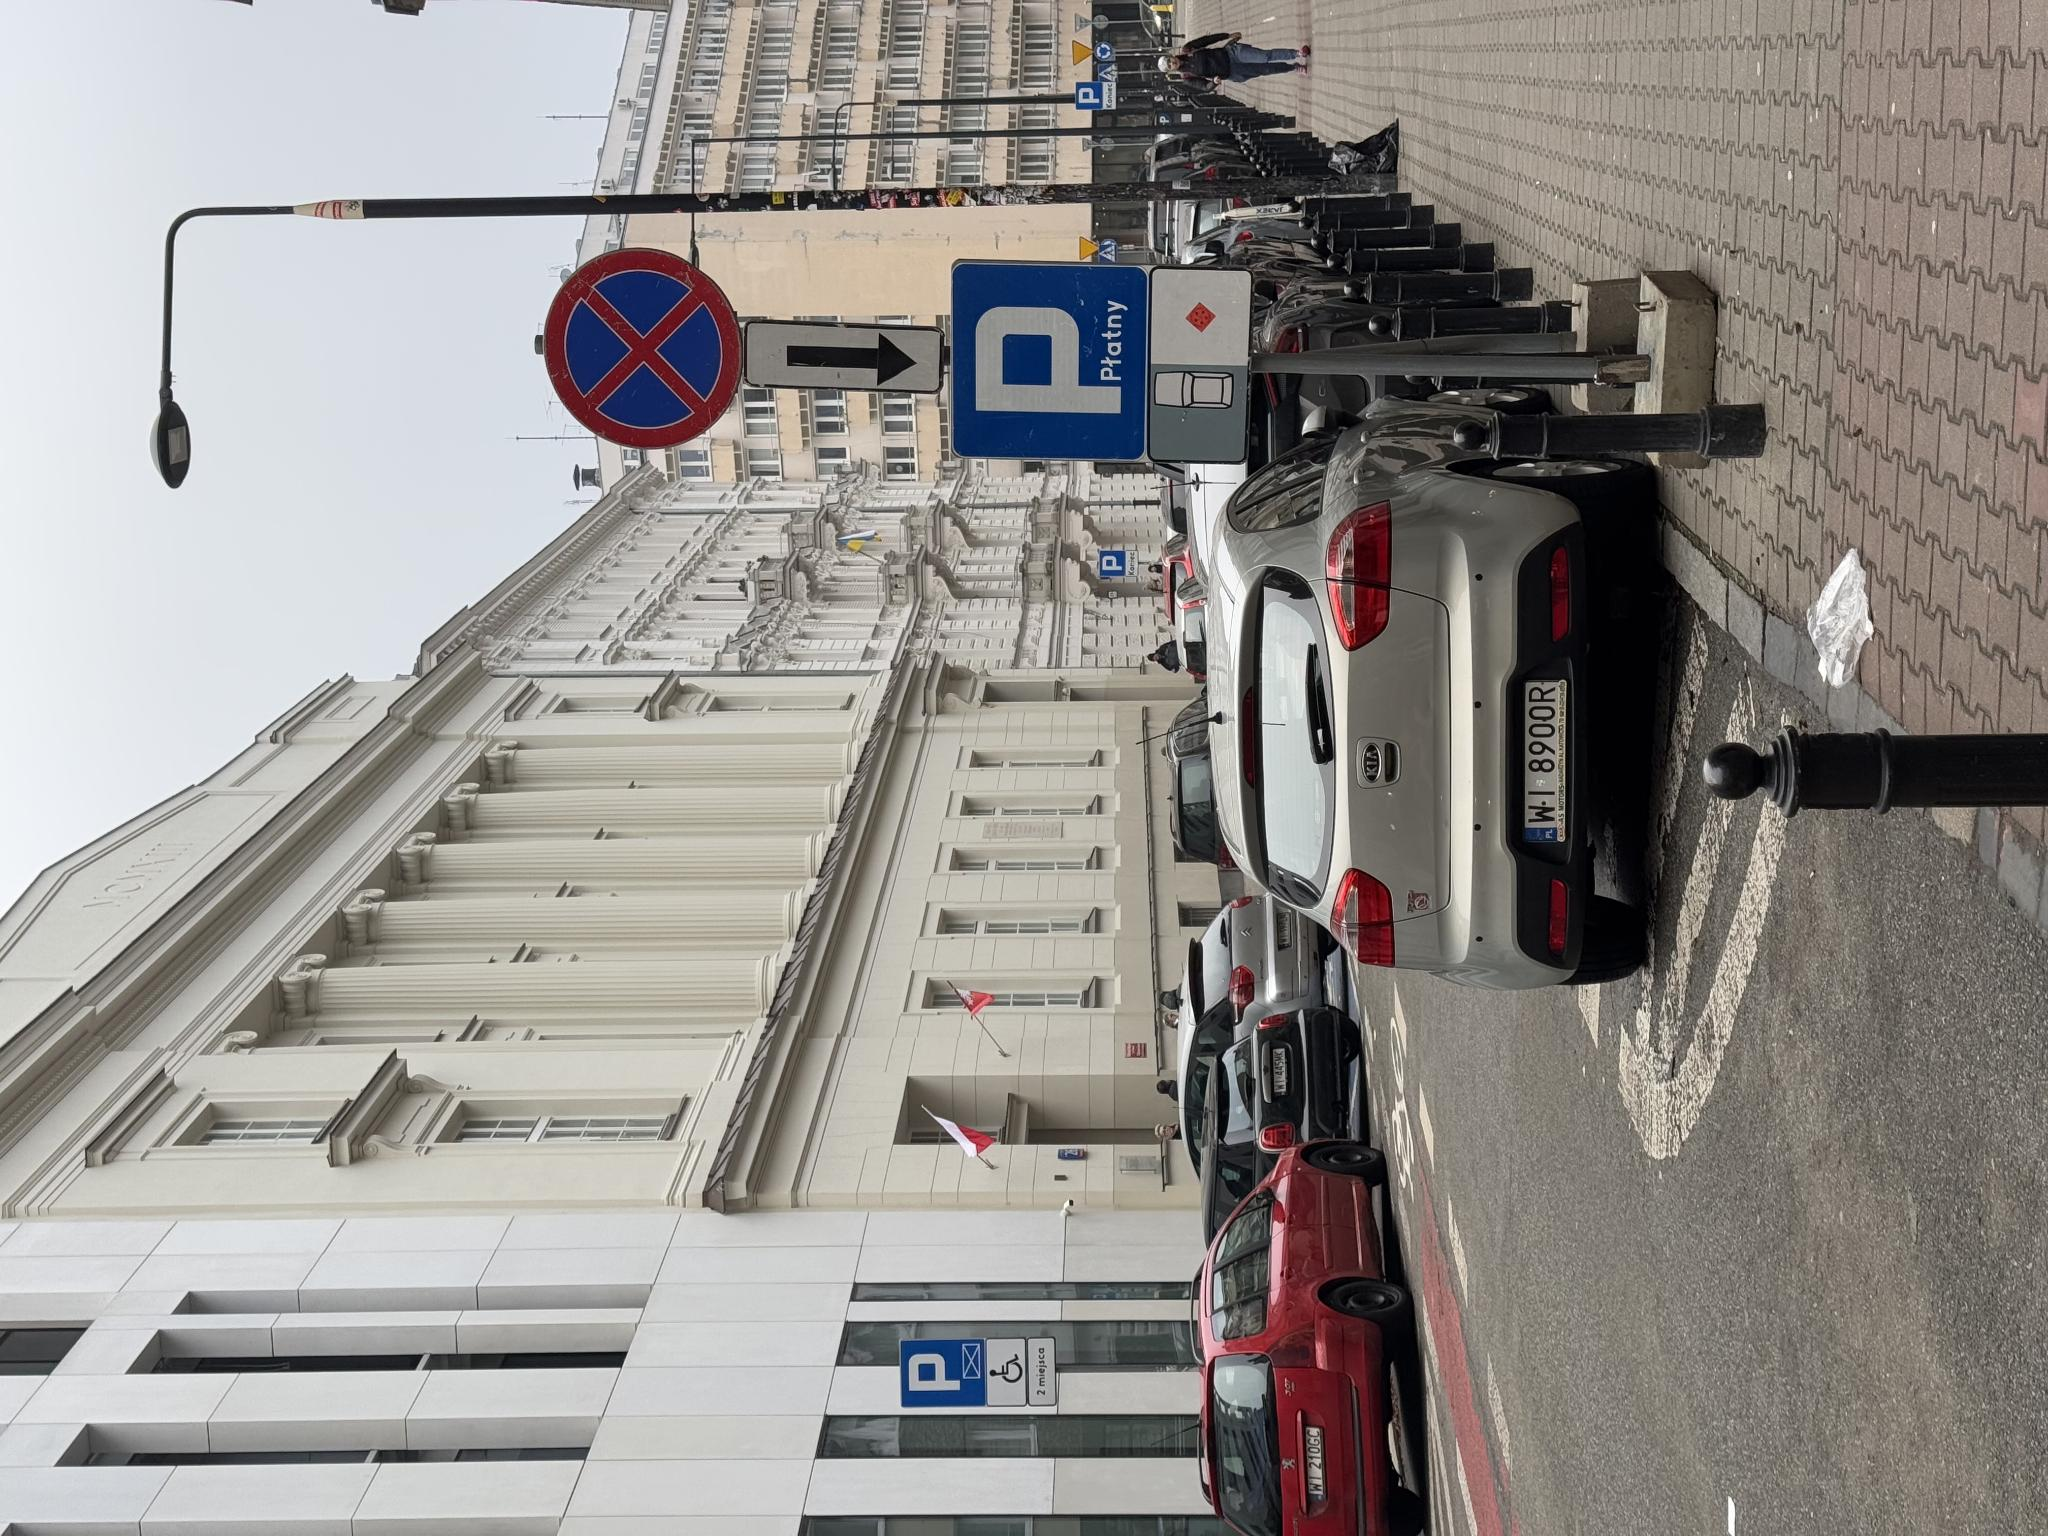information: (1076, 949, 1271, 1149), (129, 900, 200, 984), (1426, 1076, 1455, 1102), (959, 1099, 985, 1125), (1455, 1099, 1472, 1118), (1274, 1099, 1292, 1117)
mandatory: (1476, 1096, 1495, 1113)
other: (1074, 1149, 1271, 1252), (1142, 744, 1216, 944), (129, 987, 198, 1026), (129, 1028, 200, 1055), (1427, 1102, 1453, 1115), (959, 1125, 985, 1137)
prohibitory: (1085, 542, 1288, 744)
warning: (1471, 1071, 1496, 1094), (1277, 1079, 1300, 1099)
